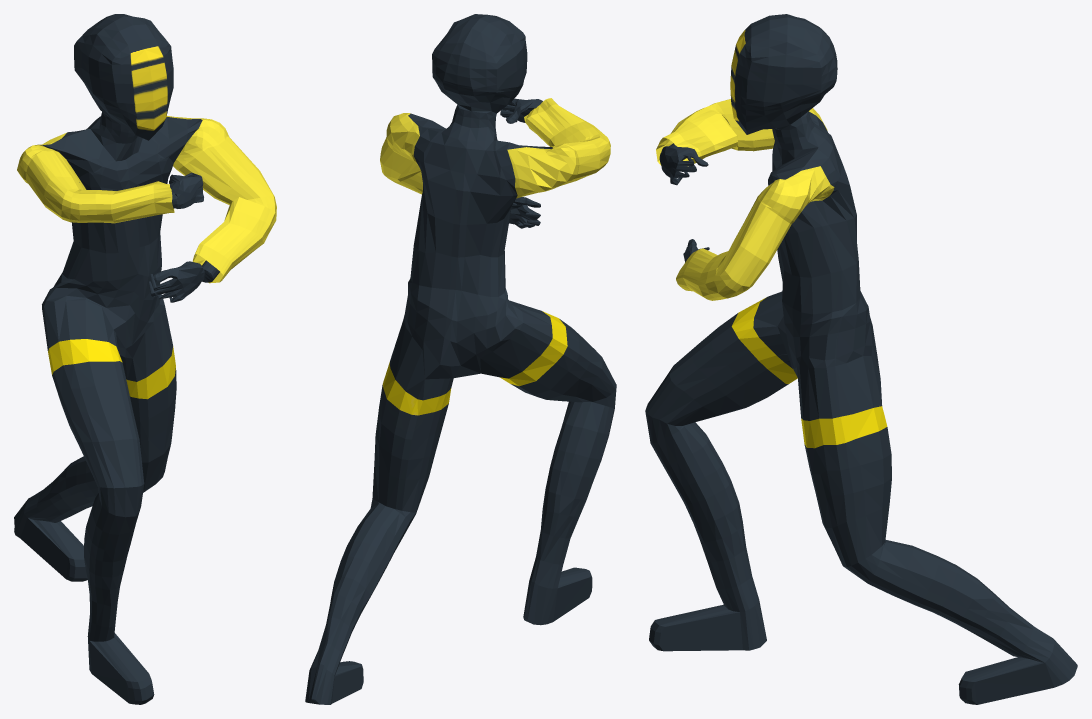
The model's file is Sentry_Hit_Stun_000010.obj.
The picture shows the model from 3 angles, left to right: view 1: azimuth 30°, elevation 25°; view 2: azimuth 150°, elevation 25°; view 3: azimuth 270°, elevation 25°; orthographic projection. The views are drawn at different scales.
Parts seen in each view (by area): view 1: Cube; view 2: Cube; view 3: Cube.
Boxes of the visible parts, x1,y1,x2,y2 form: Cube: [14, 14, 276, 704]; Cube: [305, 14, 616, 704]; Cube: [645, 14, 1077, 704].
Bounding box in the file's own units: 1.29 × 3.48 × 2.06.
